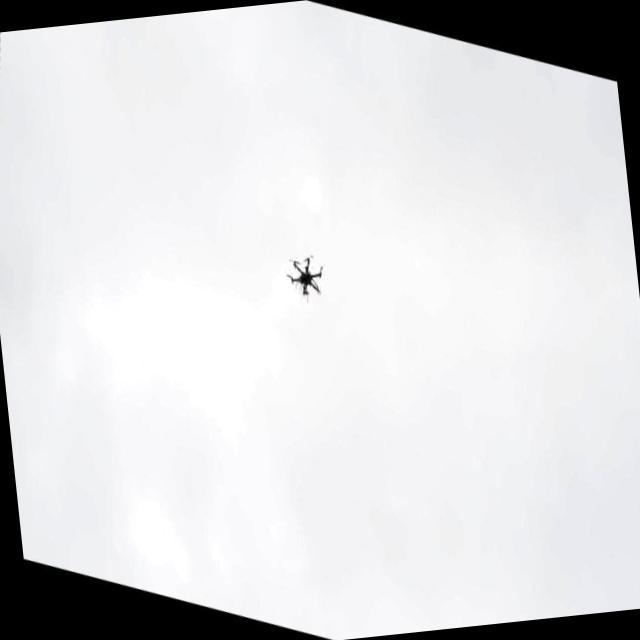drone: (279, 243, 331, 312)
